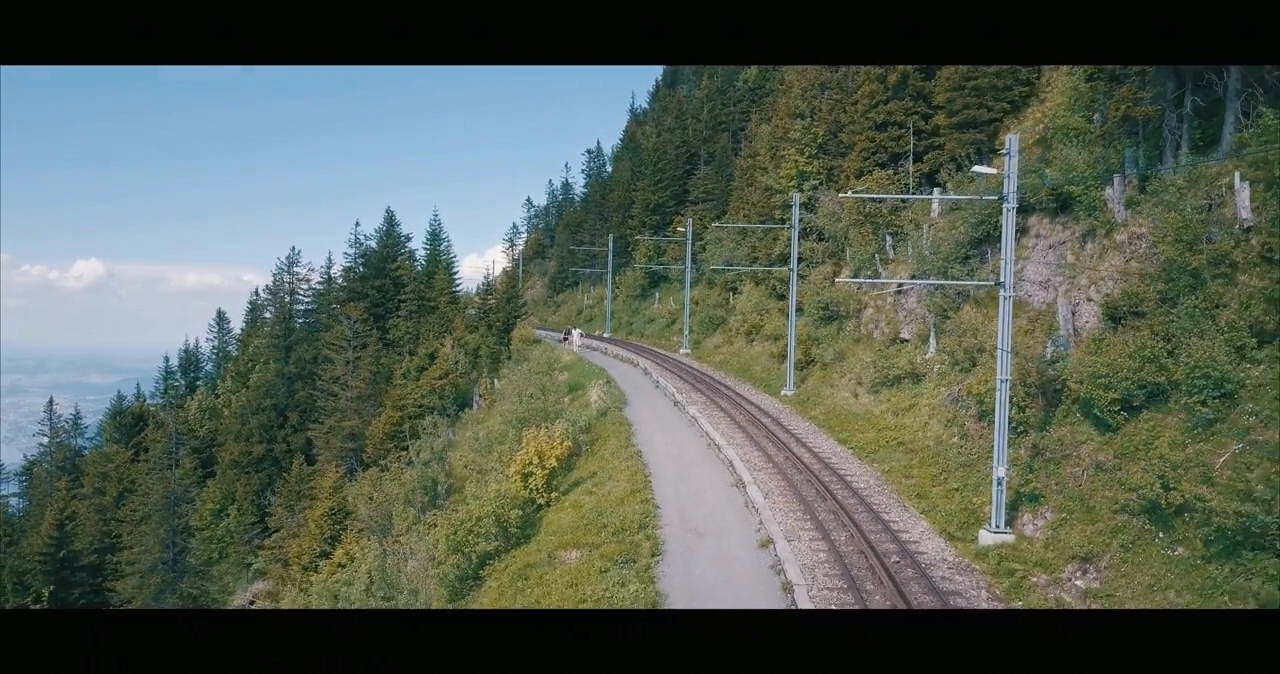insan: (572, 326, 586, 354), (562, 325, 571, 348)
